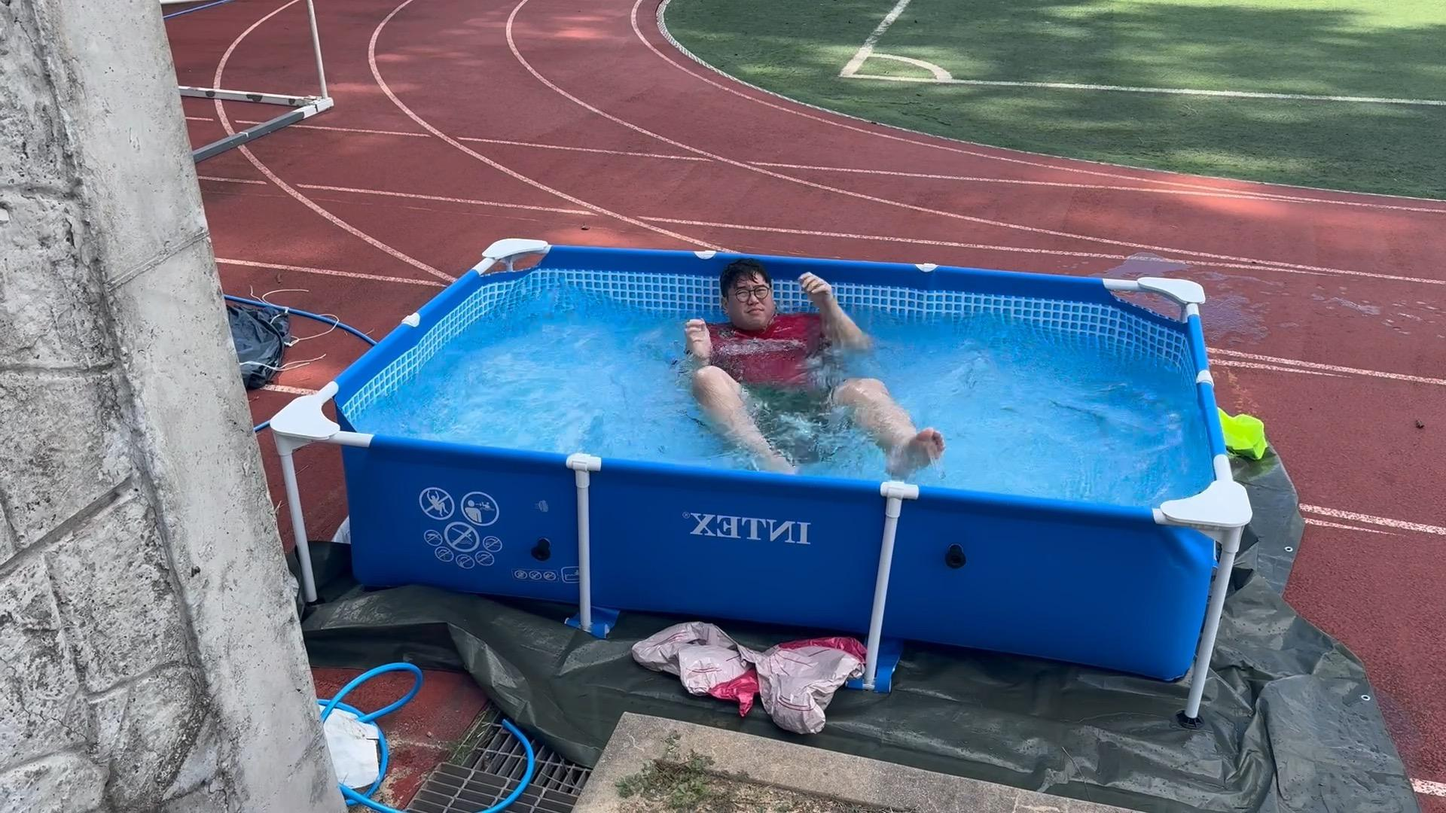Drowning: (646, 256, 968, 469)
